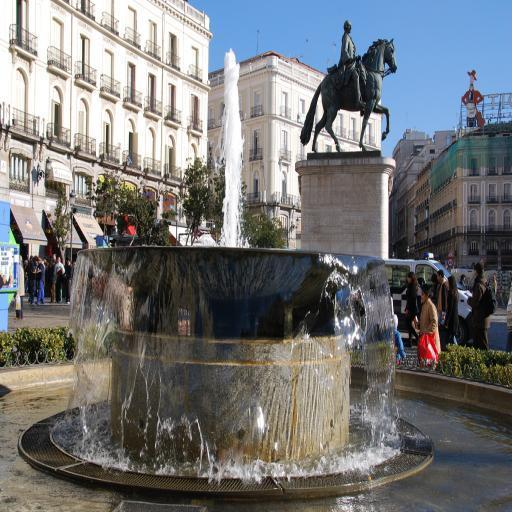horse: (298, 39, 398, 154)
